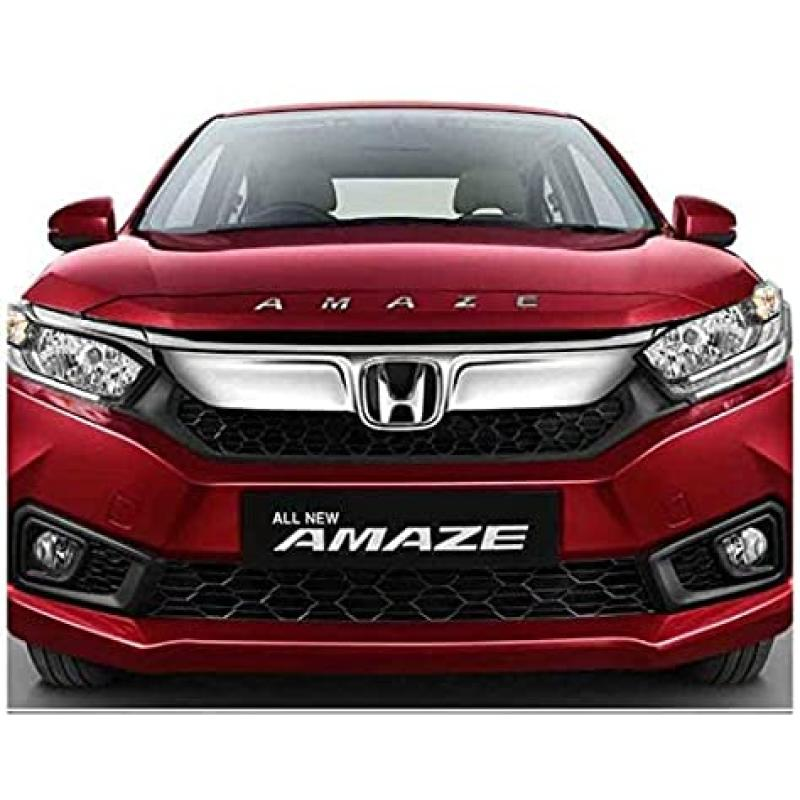car: (4, 58, 800, 721)
